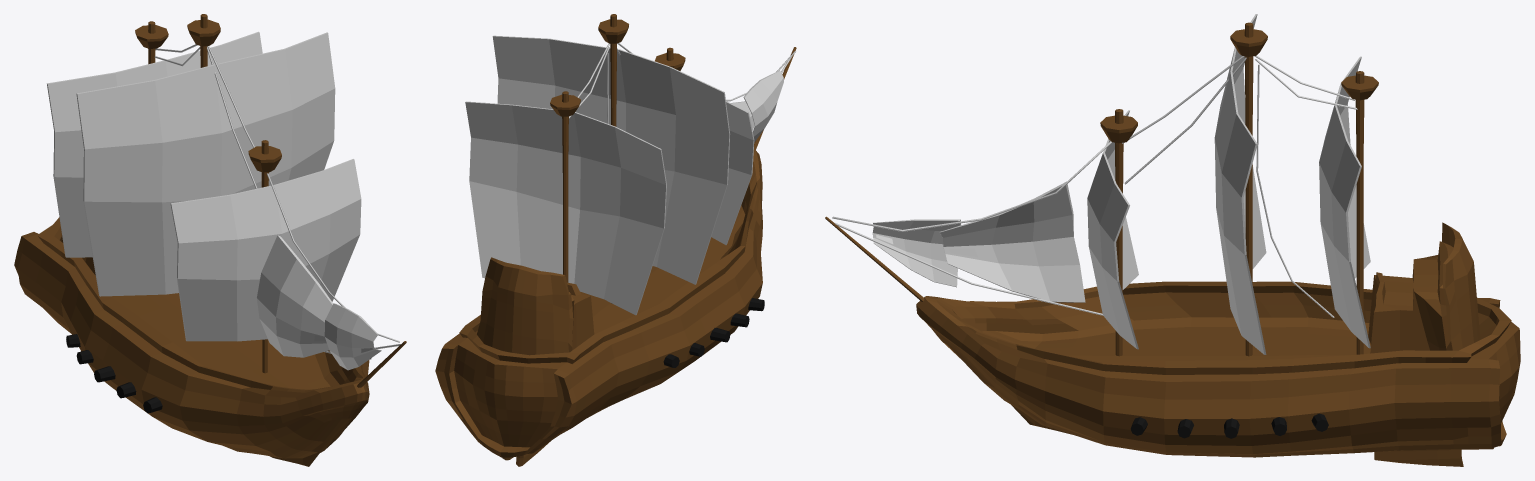
The model's file is 11-20_TestShipProp_export 1.fbx.
3 views of the same model, side by side, from view 1: azimuth 30°, elevation 25°; view 2: azimuth 150°, elevation 25°; view 3: azimuth 270°, elevation 25° (orthographic). The views are drawn at different scales.
Parts seen in each view (by area): view 1: Sails, Hull, Masts; view 2: Sails, Hull, Masts; view 3: Hull, Sails, Masts.
Boxes of the visible parts, <box> form: Sails: <box>47,31,400,370</box>; Hull: <box>14,217,369,466</box>; Masts: <box>135,14,406,387</box>; Sails: <box>465,35,795,315</box>; Hull: <box>435,149,762,466</box>; Masts: <box>550,14,796,303</box>; Hull: <box>916,222,1520,466</box>; Sails: <box>832,14,1370,354</box>; Masts: <box>825,22,1378,356</box>.
Size of the model in its own units: 666 by 1053 by 1500.
